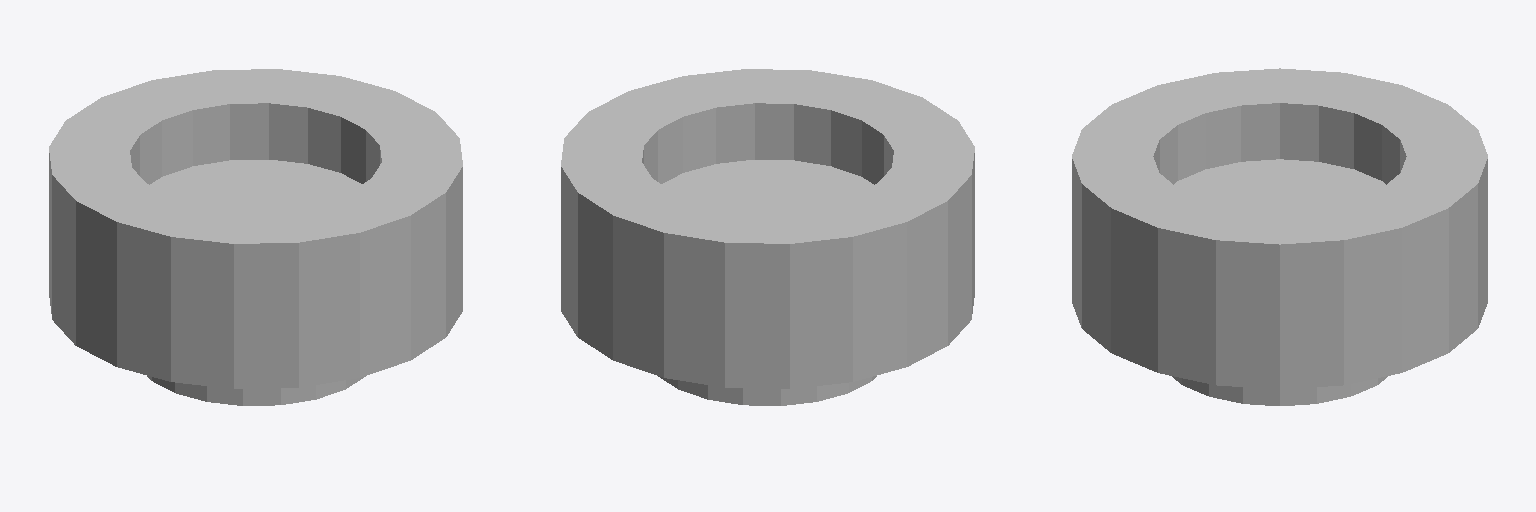
Rendered from stage2.obj.
3 renders of one model, left to right at view 1: azimuth 30°, elevation 25°; view 2: azimuth 150°, elevation 25°; view 3: azimuth 270°, elevation 25°, orthographic.
Visible parts, largest first — view 1: pCylinder6; view 2: pCylinder6; view 3: pCylinder6.
Part boxes in pixels (x1,y1,x2,y2): pCylinder6: (49, 69, 462, 405); pCylinder6: (561, 69, 974, 405); pCylinder6: (1072, 68, 1487, 405).
Size of the model in its own units: 14.58 by 7.69 by 14.58.